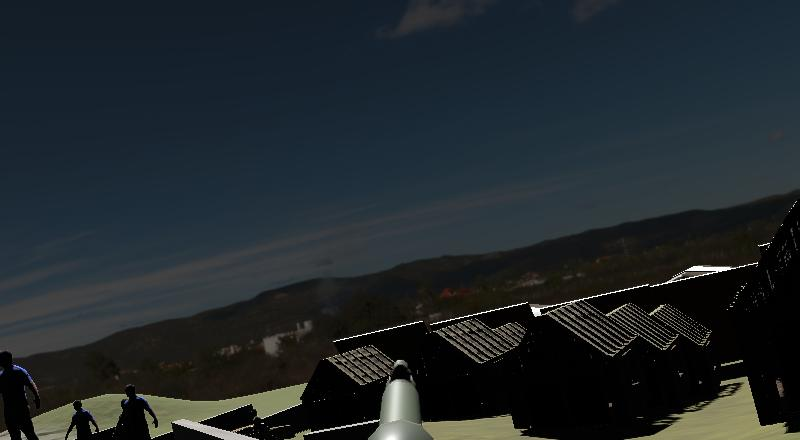House: (514, 300, 718, 436)
Human: (0, 348, 52, 440), (111, 380, 162, 440), (63, 397, 103, 440)
